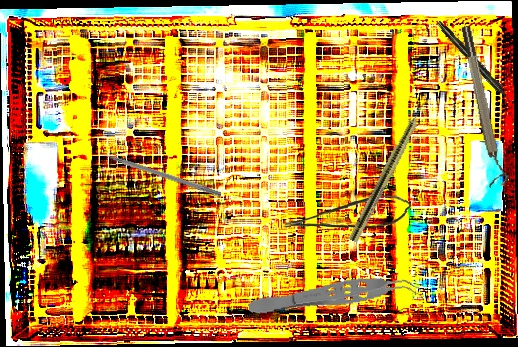Fixation Ring: (458, 23, 511, 189)
Handpiece: (347, 92, 434, 245), (435, 18, 514, 106)
Micro Scissor: (283, 193, 413, 232)
Pusher: (88, 145, 223, 198)
Tissue Forceps: (246, 270, 423, 322)
